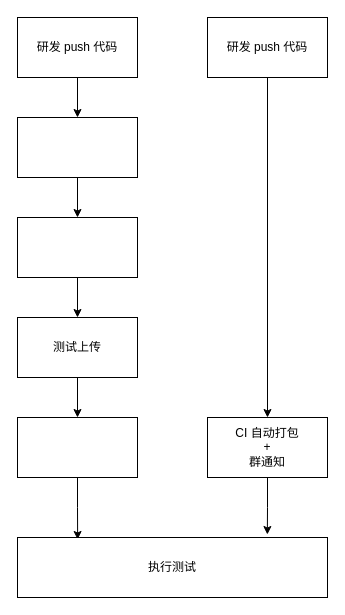
This 345x615 diagram has some shape labels left out. The centre of each missing label's shape, as x and y in pixels:
"告知测试" belongs at [77,147].
"测试发版" belongs at [77,447].
"测试打包" belongs at [77,247].
